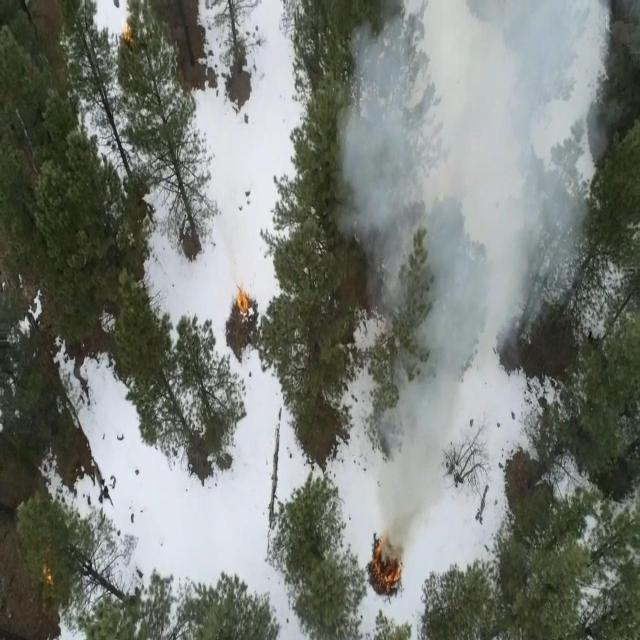Fire: (373, 534, 402, 584), (230, 284, 254, 328)
Smoke: (360, 2, 614, 523)
